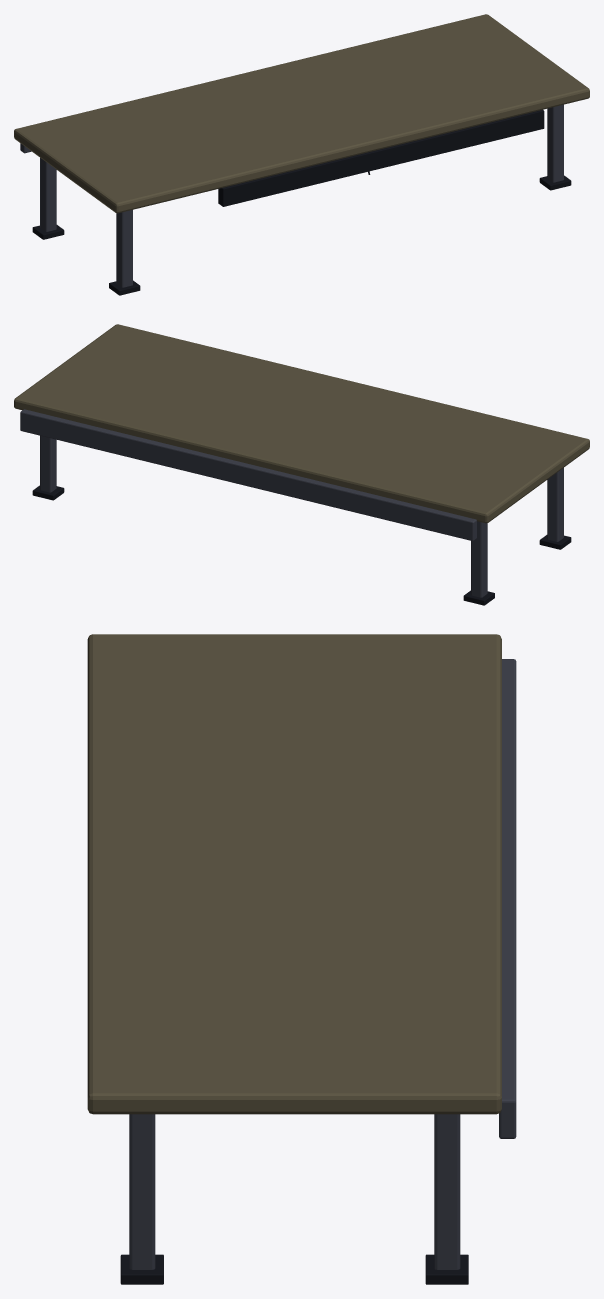
Rendered from studio_table.glb.
3 views of the same model, one above another, from view 1: azimuth 30°, elevation 25°; view 2: azimuth 150°, elevation 25°; view 3: azimuth 270°, elevation 25° (orthographic). The views are drawn at different scales.
Visible parts, largest first — view 1: studio_table; view 2: studio_table; view 3: studio_table.
Boxes of the visible parts, box(x1,y1,x2,y2) form: studio_table: box(14, 14, 589, 295); studio_table: box(14, 324, 589, 605); studio_table: box(87, 634, 516, 1284).
Size of the model in its own units: 3.81 by 0.77 by 1.49.
